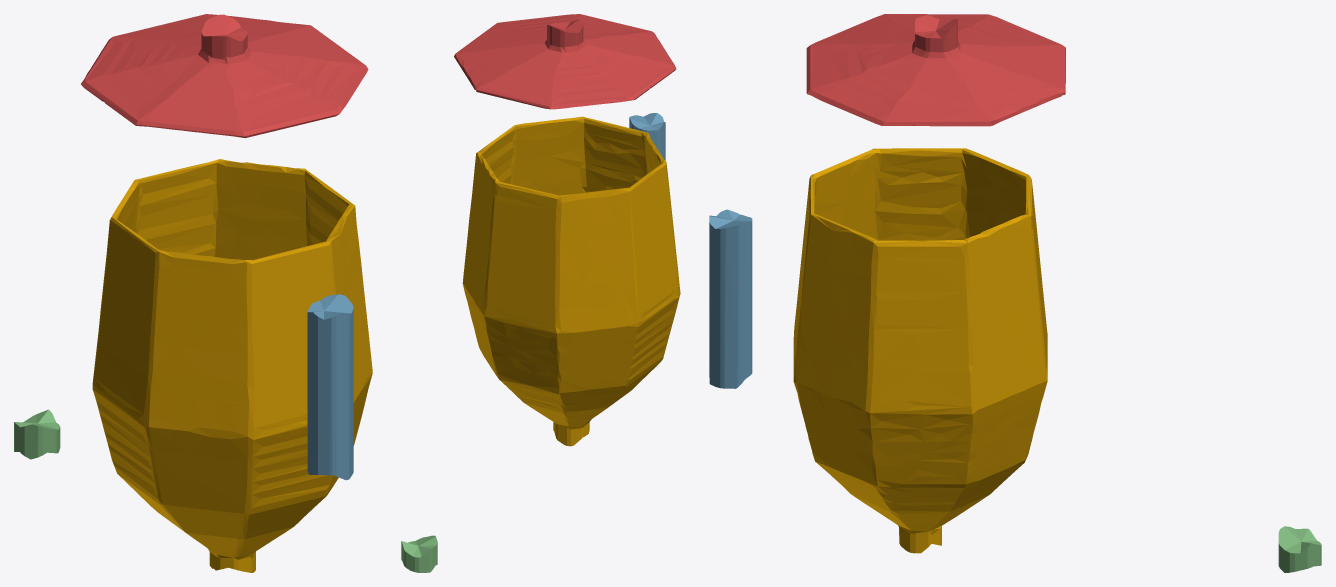
Rendered from fractured_7_4pcs_transformed.glb.
3 renders of one model, left to right at view 1: azimuth 30°, elevation 25°; view 2: azimuth 150°, elevation 25°; view 3: azimuth 270°, elevation 25°, orthographic. The views are drawn at different scales.
Parts seen in each view (by area): view 1: piece_0.obj, piece_1.obj, piece_2.obj, piece_3.obj; view 2: piece_0.obj, piece_1.obj, piece_3.obj, piece_2.obj; view 3: piece_0.obj, piece_1.obj, piece_2.obj, piece_3.obj.
Boxes of the visible parts, x1=… form: piece_0.obj: x1=92, y1=159, x2=372, y2=572; piece_1.obj: x1=81, y1=14, x2=368, y2=138; piece_2.obj: x1=307, y1=294, x2=353, y2=480; piece_3.obj: x1=14, y1=409, x2=60, y2=459; piece_0.obj: x1=462, y1=116, x2=680, y2=446; piece_1.obj: x1=454, y1=14, x2=676, y2=109; piece_3.obj: x1=401, y1=535, x2=437, y2=572; piece_2.obj: x1=629, y1=113, x2=665, y2=160; piece_0.obj: x1=793, y1=148, x2=1047, y2=553; piece_1.obj: x1=806, y1=14, x2=1065, y2=126; piece_2.obj: x1=709, y1=209, x2=752, y2=388; piece_3.obj: x1=1278, y1=526, x2=1321, y2=572.
Bounding box in the file's own units: 0.4104 × 0.9546 × 0.968.
